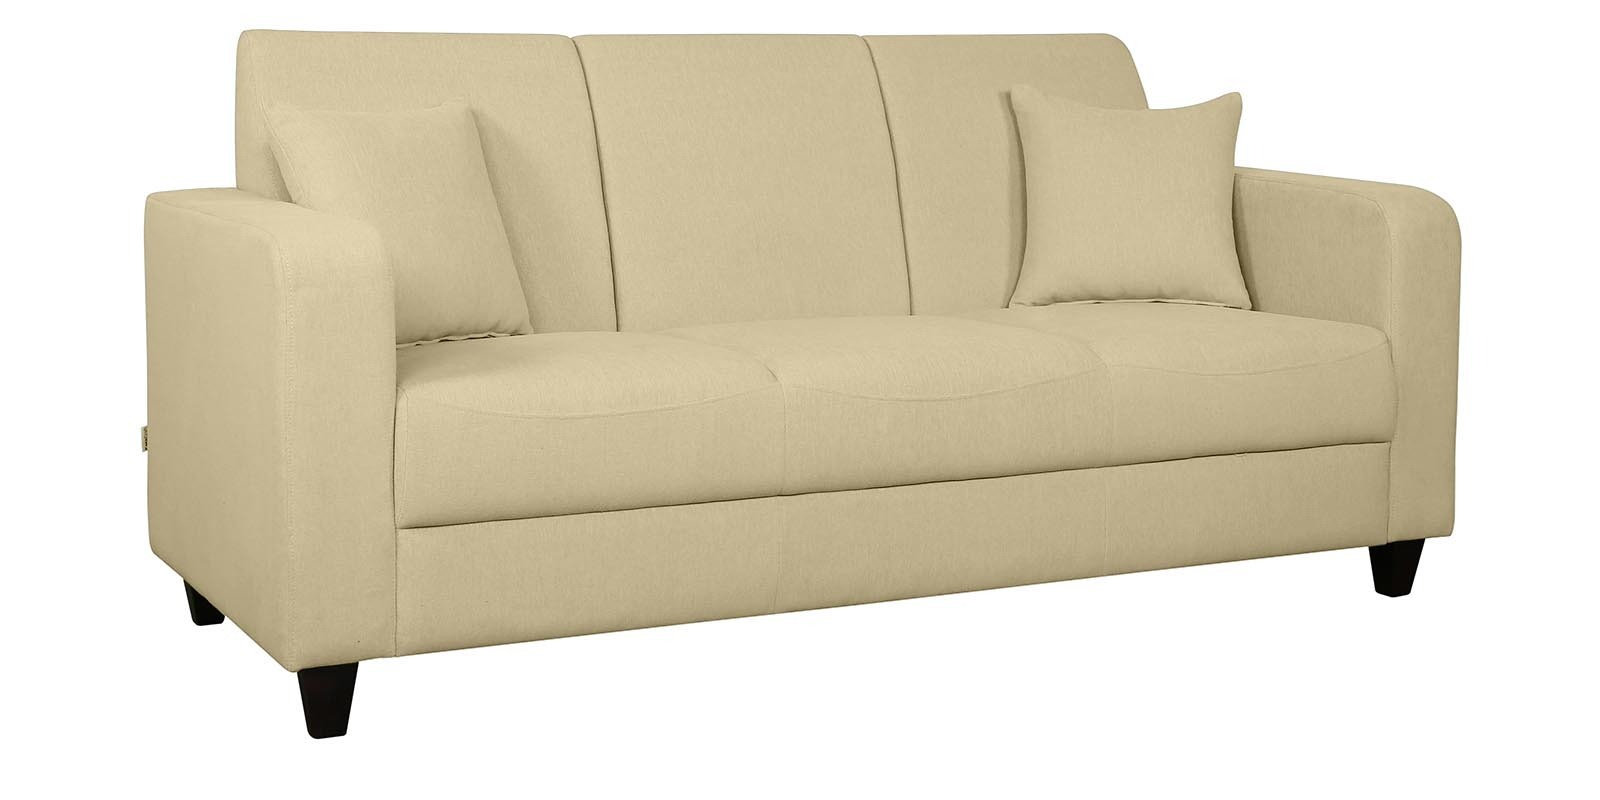Alba Three Seater Sofa in Beige Colour by CasaCraft: (135, 24, 1478, 750)
